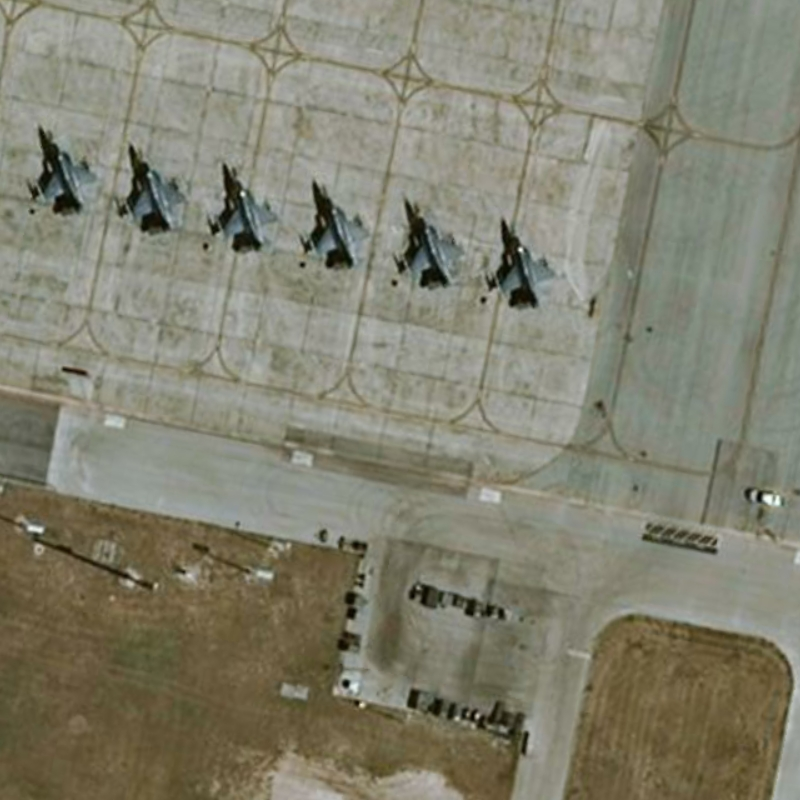A5: (389, 199, 473, 295), (208, 160, 286, 256), (486, 219, 563, 315), (118, 141, 192, 238), (301, 179, 377, 273), (29, 124, 102, 218)
